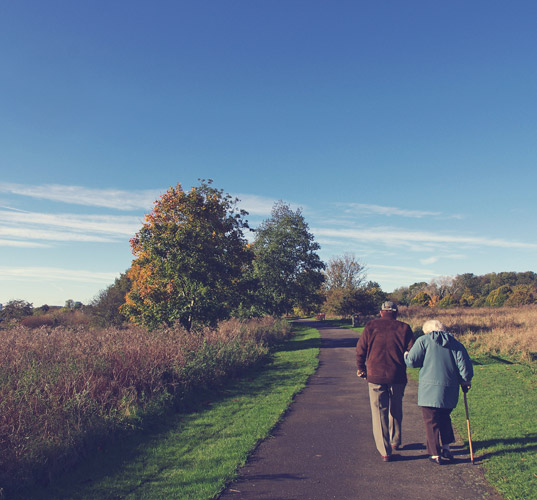female: (409, 319, 475, 463)
male: (356, 299, 414, 462)
